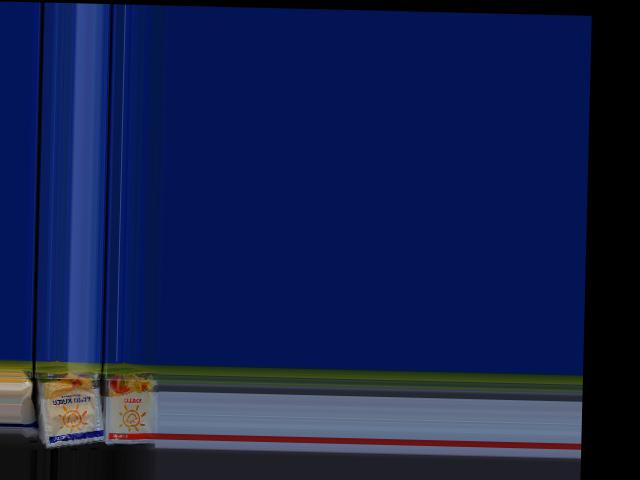cheese: (104, 362, 160, 449)
